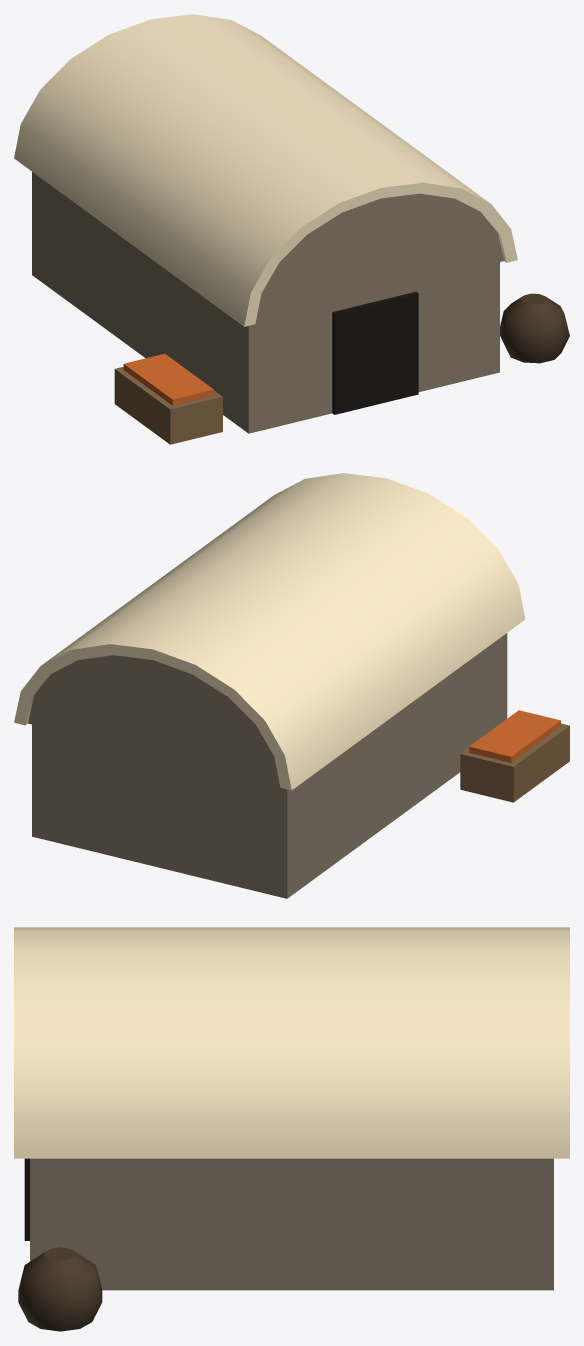
The model's file is VerHut03.glb.
3 views of the same model, one above another, from view 1: azimuth 30°, elevation 25°; view 2: azimuth 150°, elevation 25°; view 3: azimuth 270°, elevation 25° (orthographic). The views are drawn at different scales.
Visible parts, largest first — view 1: VerHut03_end; view 2: VerHut03_end; view 3: VerHut03_end.
Boxes of the visible parts, <box> form: VerHut03_end: <box>14,14,569,444</box>; VerHut03_end: <box>14,473,569,898</box>; VerHut03_end: <box>14,927,569,1331</box>.
Size of the model in its own units: 4.27 by 2.25 by 4.26.
